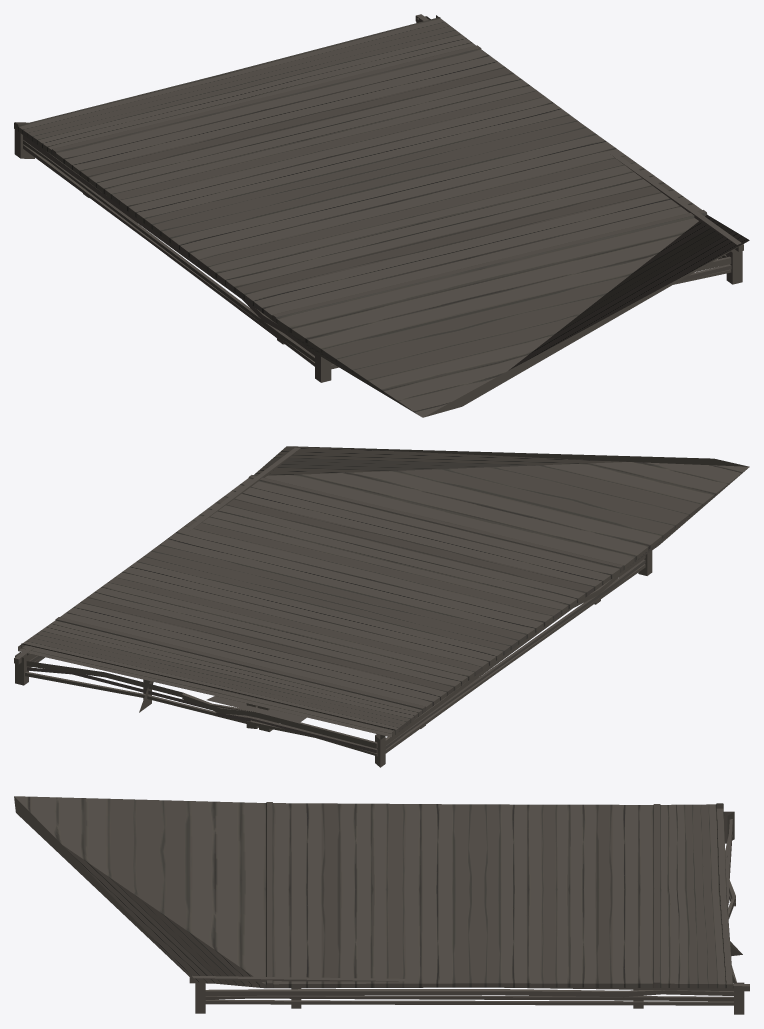
3 renders of one model, top to bottom at view 1: azimuth 30°, elevation 25°; view 2: azimuth 150°, elevation 25°; view 3: azimuth 270°, elevation 25°, orthographic. The views are drawn at different scales.
Visible parts, largest first — view 1: SM_Bld_TrainStation_Platform_01; view 2: SM_Bld_TrainStation_Platform_01; view 3: SM_Bld_TrainStation_Platform_01.
Boxes of the visible parts, x1=… form: SM_Bld_TrainStation_Platform_01: x1=14, y1=14, x2=749, y2=417; SM_Bld_TrainStation_Platform_01: x1=14, y1=446, x2=749, y2=767; SM_Bld_TrainStation_Platform_01: x1=14, y1=796, x2=749, y2=1014.
Bounding box in the file's own units: 523 × 52.52 × 893.
